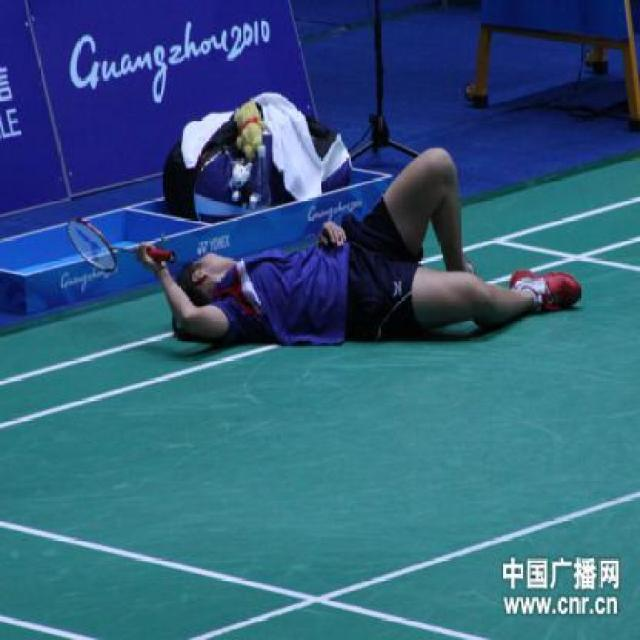fall: (142, 134, 582, 361)
